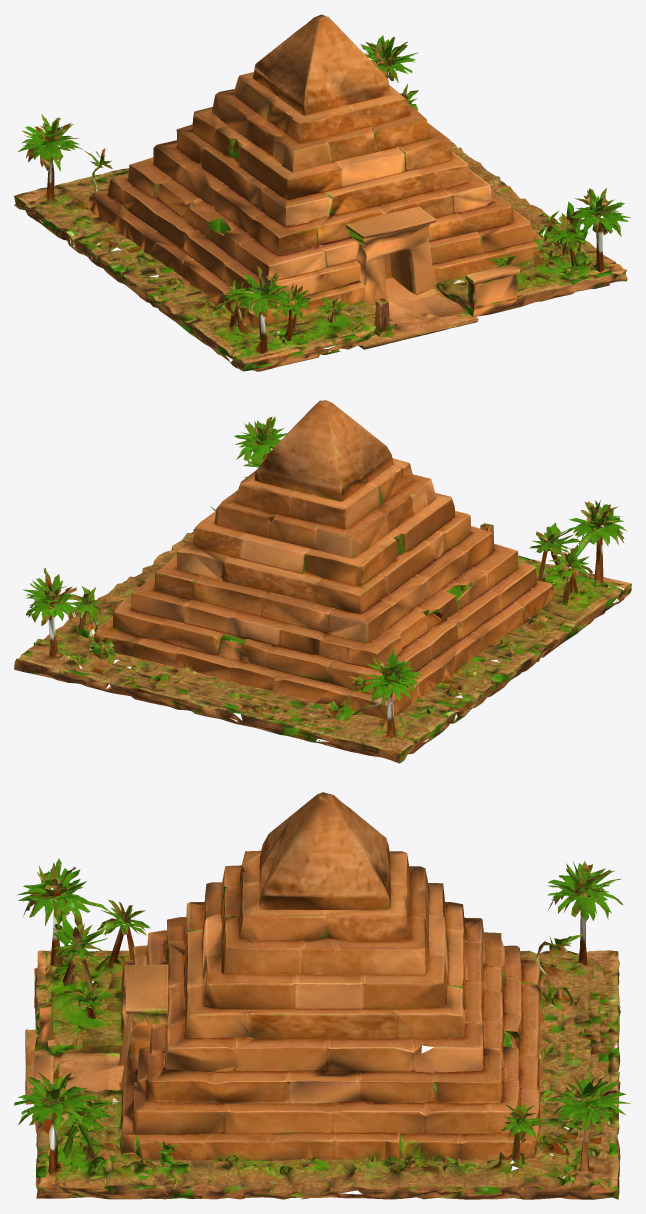
3 renders of one model, top to bottom at view 1: azimuth 30°, elevation 25°; view 2: azimuth 150°, elevation 25°; view 3: azimuth 270°, elevation 25°, orthographic. The views are drawn at different scales.
Parts seen in each view (by area): view 1: mesh_node; view 2: mesh_node; view 3: mesh_node.
Part boxes in pixels (x1,y1,x2,y2): mesh_node: (14, 14, 630, 371); mesh_node: (14, 400, 631, 763); mesh_node: (14, 792, 630, 1199).
Size of the model in its own units: 1.76 by 0.9709 by 1.89.
1 material, 1 textured.
